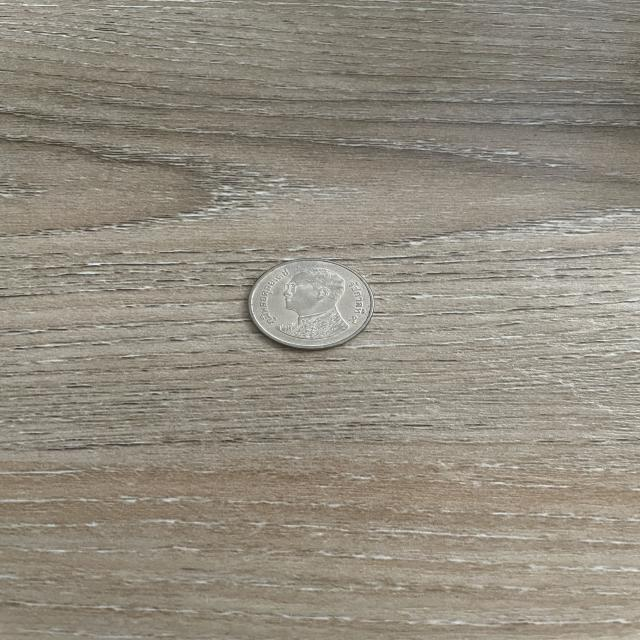1 Bath: (241, 254, 380, 356)
